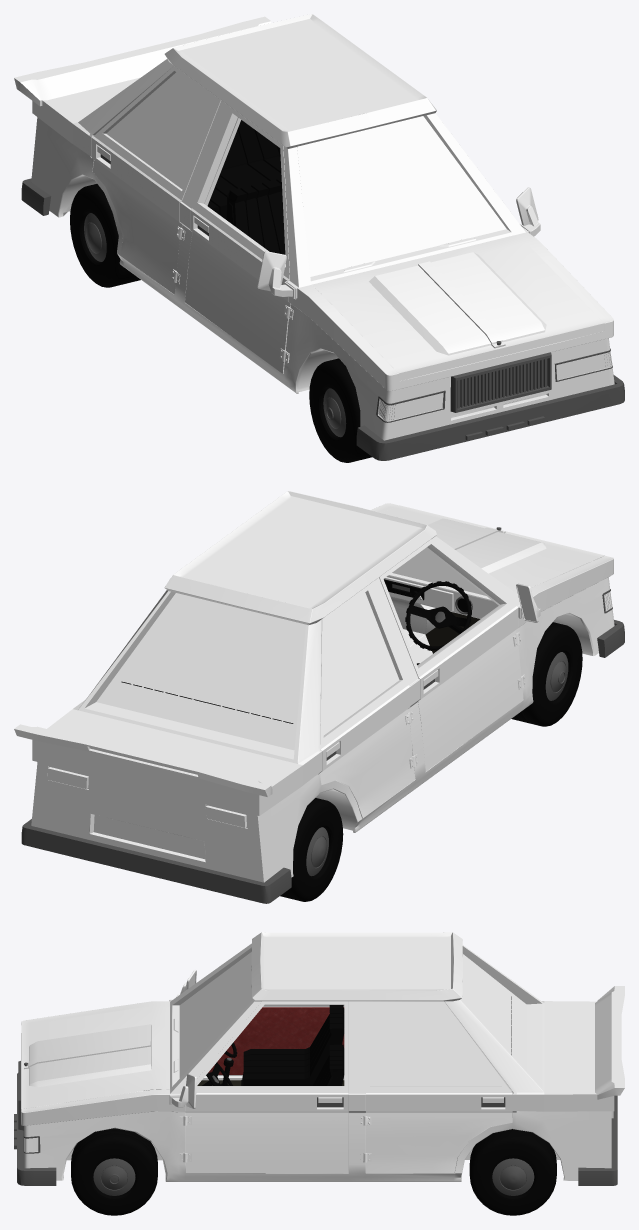
File: car.glb
3 views of the same model, one above another, from view 1: azimuth 30°, elevation 25°; view 2: azimuth 150°, elevation 25°; view 3: azimuth 270°, elevation 25° (orthographic). The views are drawn at different scales.
Parts seen in each view (by area): view 1: Body; view 2: Body; view 3: Body.
Part boxes in pixels (x1,y1,x2,y2): Body: (14, 14, 624, 462); Body: (14, 491, 624, 903); Body: (14, 932, 624, 1215).
Size of the model in its own units: 1.82 by 1.58 by 4.13.
Materials: 9 (2 with a texture image).
